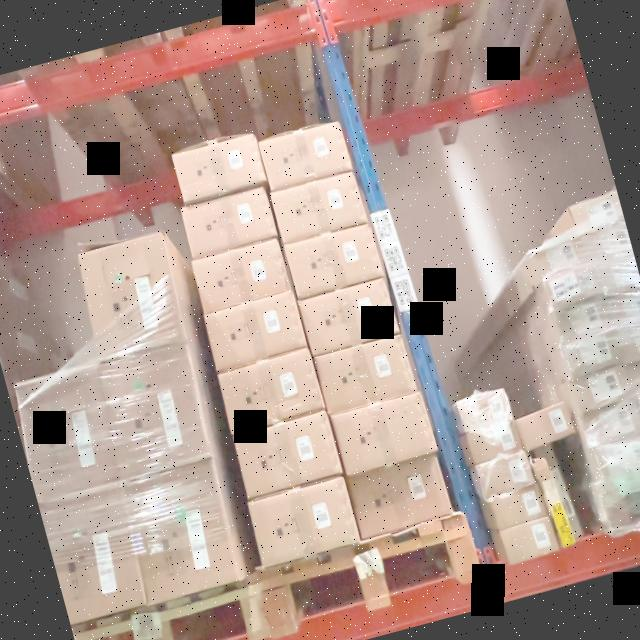box: (124, 456, 239, 603), (100, 340, 209, 481), (79, 231, 182, 356), (233, 409, 342, 499), (248, 476, 358, 565), (217, 347, 323, 434), (332, 390, 439, 476), (347, 454, 452, 538), (203, 290, 305, 371), (314, 334, 417, 414), (297, 280, 399, 356), (284, 225, 384, 301), (192, 237, 291, 313), (180, 184, 276, 258), (171, 133, 268, 206), (270, 171, 367, 243), (257, 118, 352, 189), (542, 447, 582, 539), (533, 455, 573, 544), (562, 328, 624, 380), (570, 367, 634, 417), (550, 295, 610, 342), (500, 515, 559, 562), (517, 400, 574, 448), (544, 261, 600, 309), (491, 483, 547, 531), (579, 402, 640, 446), (477, 451, 535, 496), (456, 387, 510, 432), (468, 421, 522, 465), (535, 236, 586, 277), (594, 439, 640, 481)
